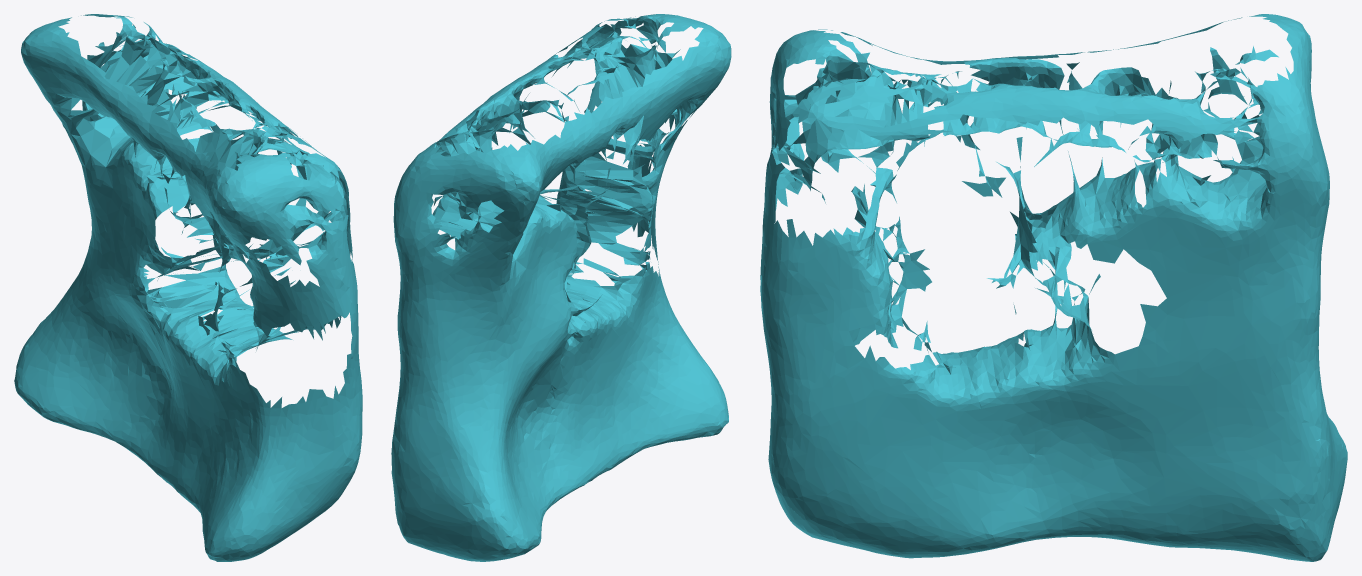
The picture shows the model from 3 angles, left to right: view 1: azimuth 30°, elevation 25°; view 2: azimuth 150°, elevation 25°; view 3: azimuth 270°, elevation 25°; orthographic projection. The views are drawn at different scales.
Parts seen in each view (by area): view 1: Renderer Node; view 2: Renderer Node; view 3: Renderer Node.
Part boxes in pixels (bbox=[...]): Renderer Node: bbox=[14, 14, 362, 561]; Renderer Node: bbox=[391, 14, 731, 561]; Renderer Node: bbox=[760, 14, 1347, 561].
Size of the model in its own units: 0.249 by 0.6492 by 0.6748.
Materials: 1 (1 with a texture image).
